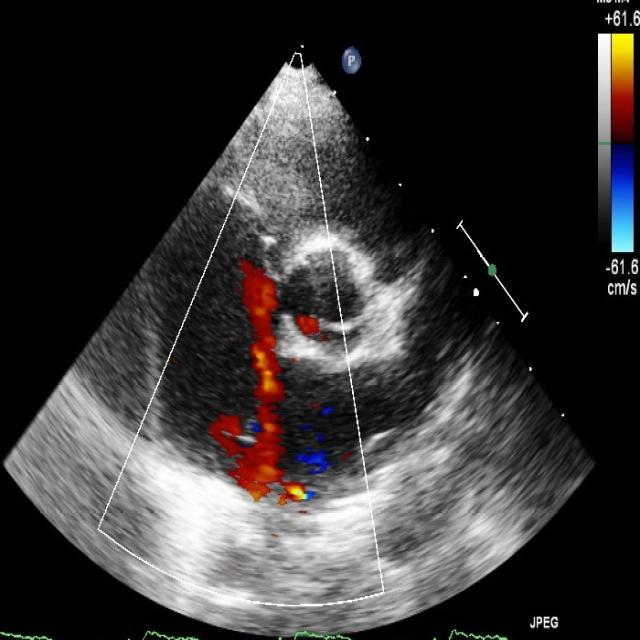ASDType2: (212, 332, 311, 503)
